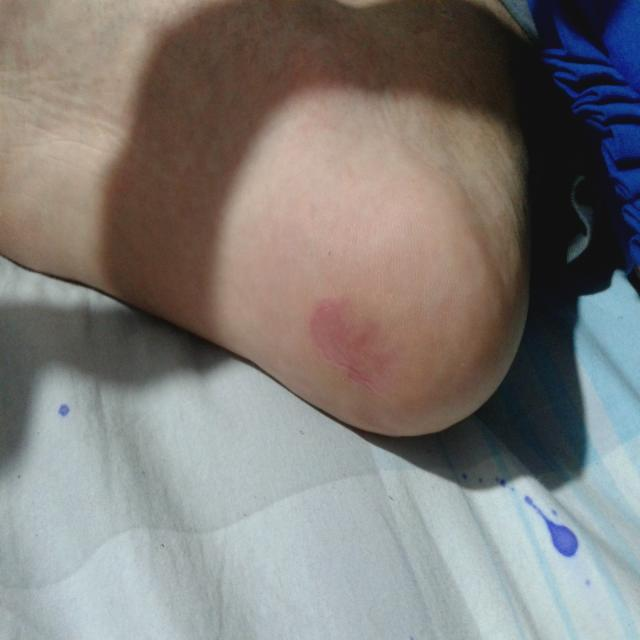stage-1: (312, 295, 381, 386)
